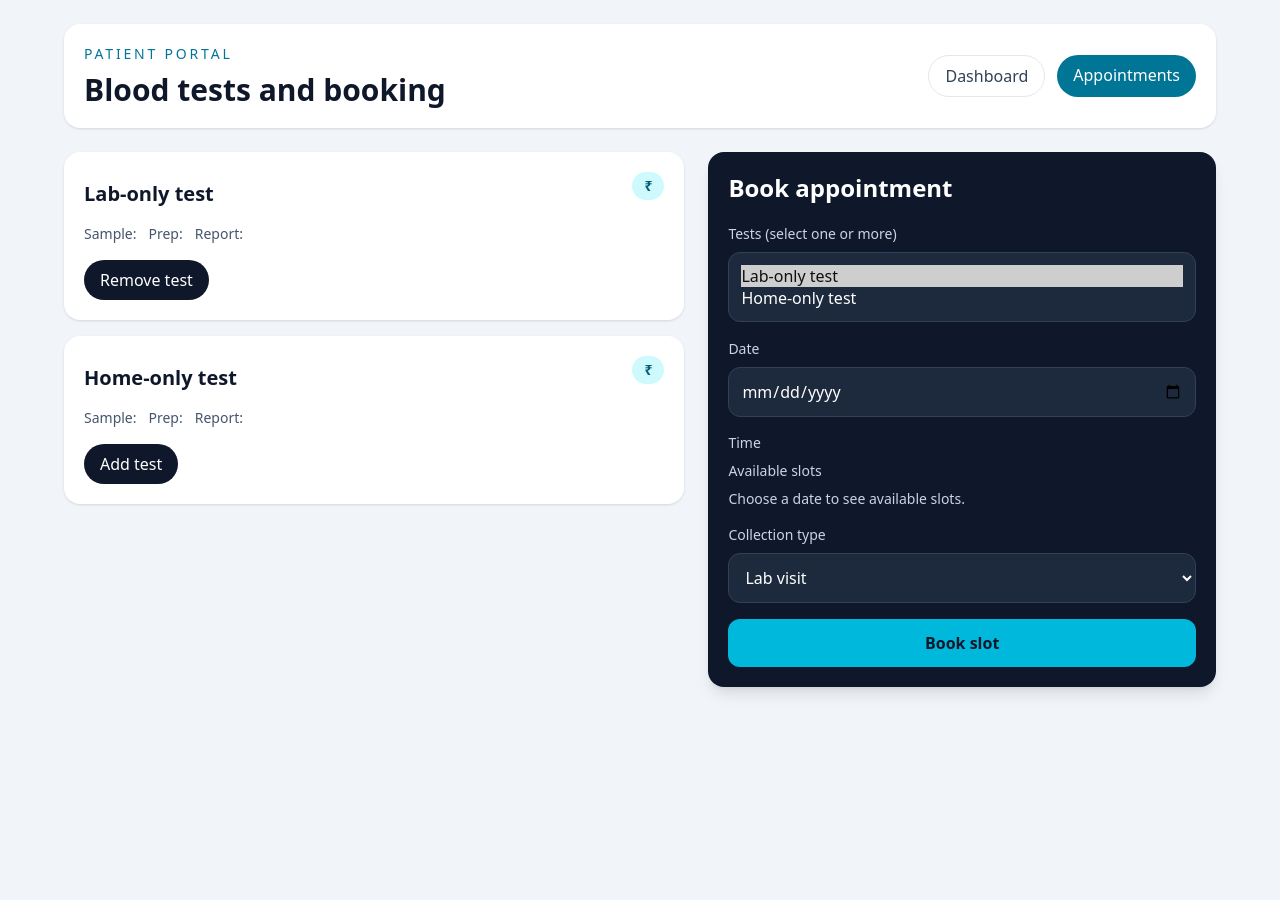
Test: PatientTestsPage booking › prevents booking tests without a shared collection type
Type "2026-10-05" into the date field labelled "Date" at (962, 392), box [728,367,1196,417]
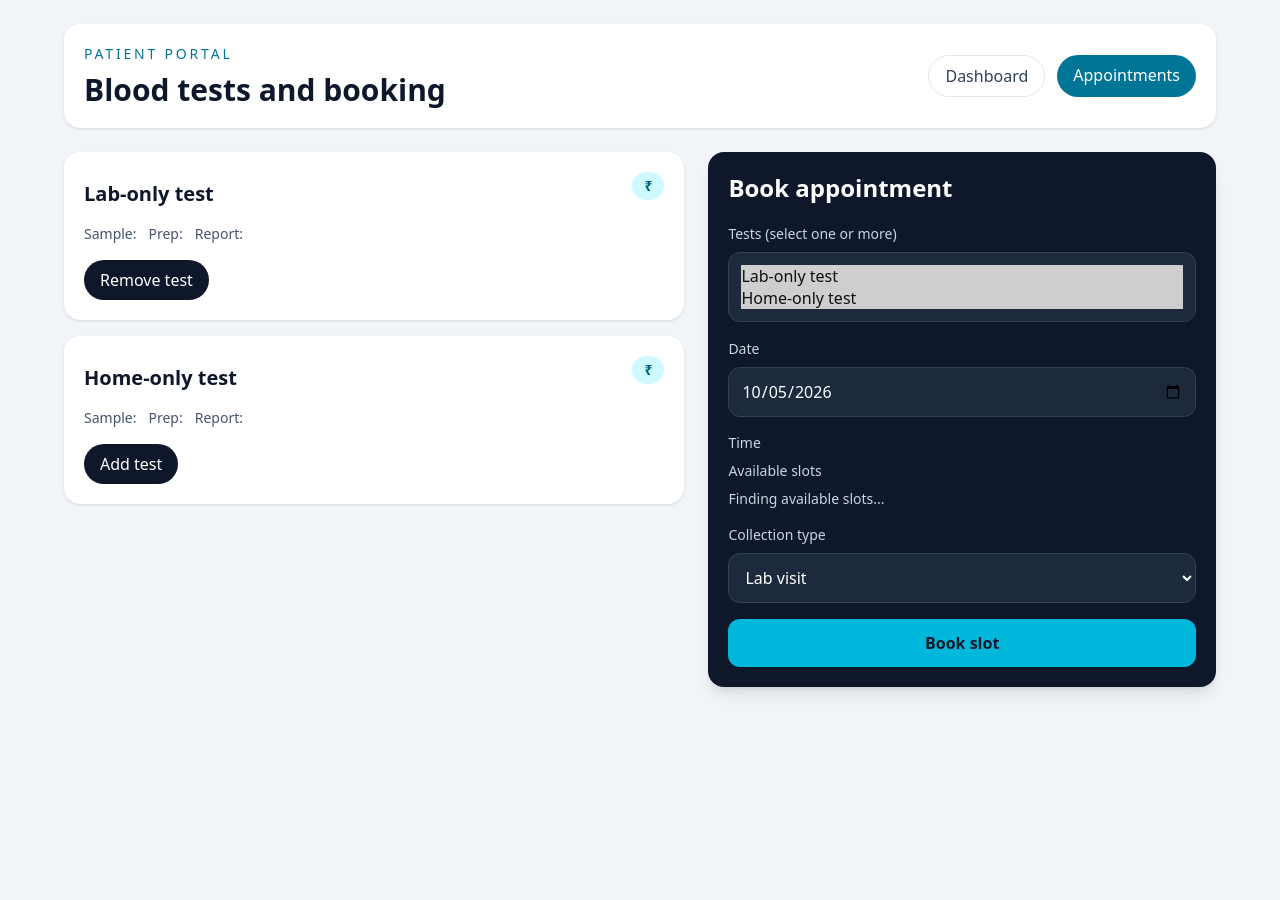
Select "Lab-only test" in the dropdown labelled "Tests (select one or more)" at (962, 287), box [728,252,1196,322]
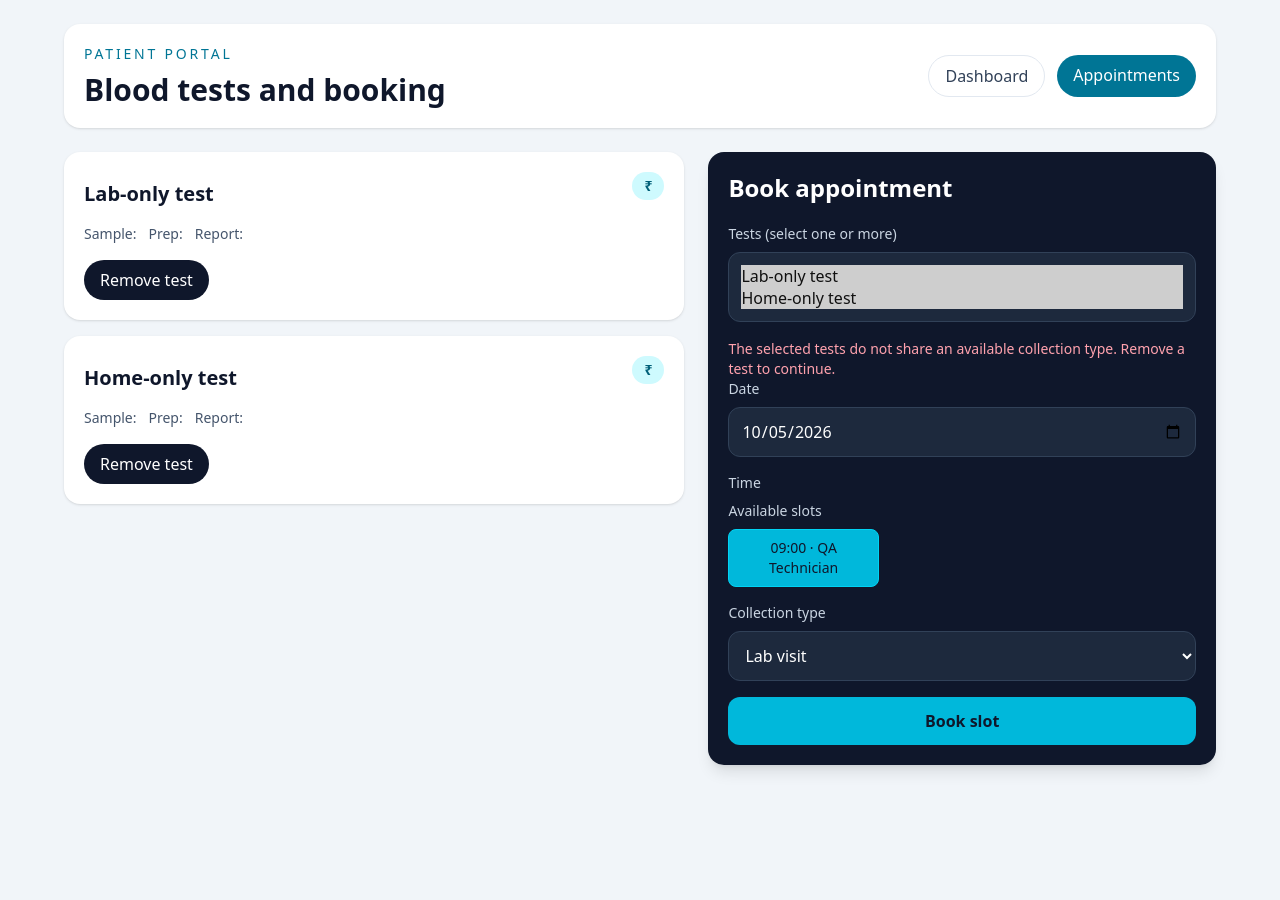
Expected: the button "Book slot" is disabled, [728,697,1196,745]
Result: the text "do not share an available collection type" is shown at [728,339,1185,378]
Result: the button "09:00 · QA Technician" is shown at [728,529,879,587]
